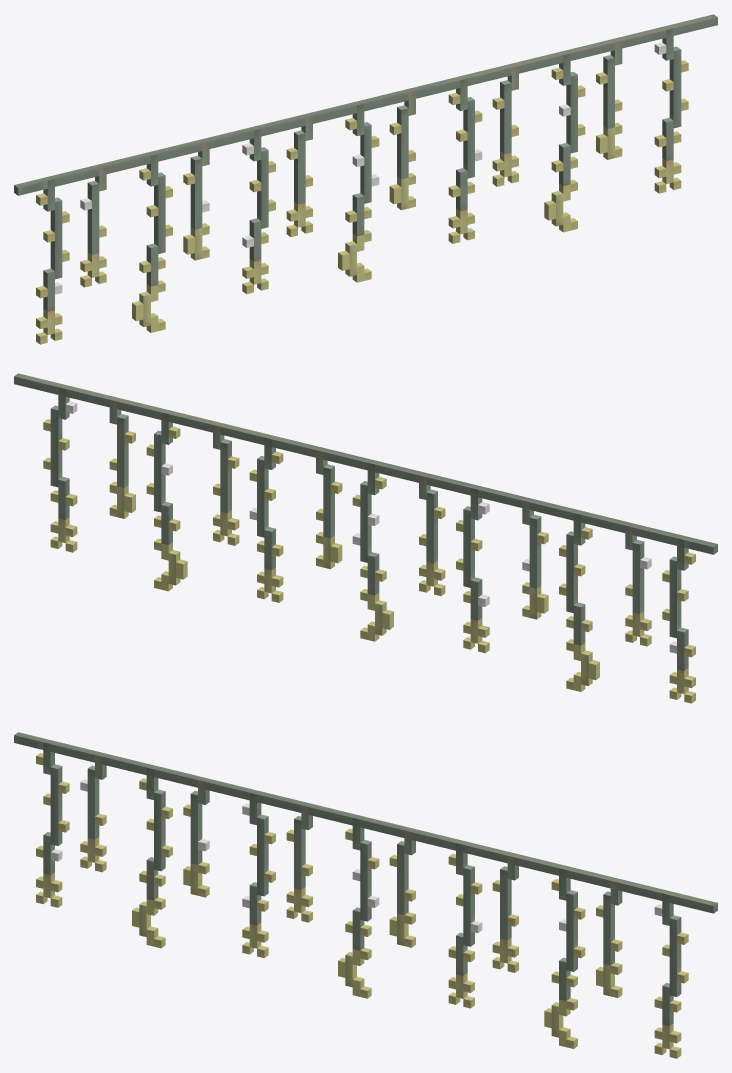
Rendered from StarAndMoonWallDecor_01.fbx.
3 views of the same model, one above another, from view 1: azimuth 30°, elevation 25°; view 2: azimuth 150°, elevation 25°; view 3: azimuth 330°, elevation 25° (orthographic).
Parts seen in each view (by area): view 1: StarAndMoonWallDecor_01; view 2: StarAndMoonWallDecor_01; view 3: StarAndMoonWallDecor_01.
Boxes of the visible parts, bbox=[...] form: StarAndMoonWallDecor_01: bbox=[14, 14, 717, 344]; StarAndMoonWallDecor_01: bbox=[14, 373, 717, 703]; StarAndMoonWallDecor_01: bbox=[14, 732, 717, 1058].
Size of the model in its own units: 475 by 5 by 115.
Materials: 2 (2 with a texture image).
